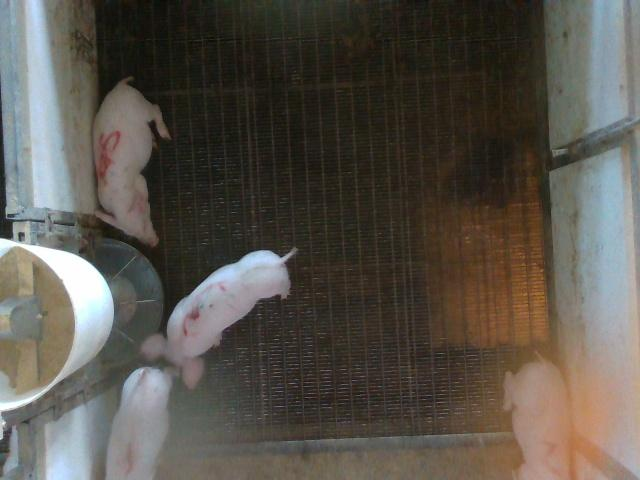pig-1: (106, 368, 171, 478)
pig-2: (504, 356, 570, 478)
pig-3: (141, 248, 296, 388)
pig-5: (94, 78, 170, 246)
